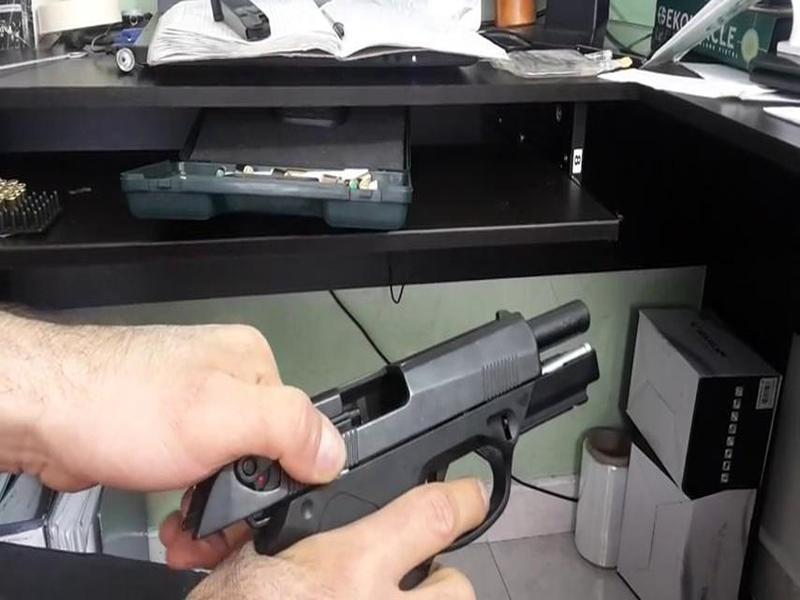Pistola: (173, 274, 616, 564)
